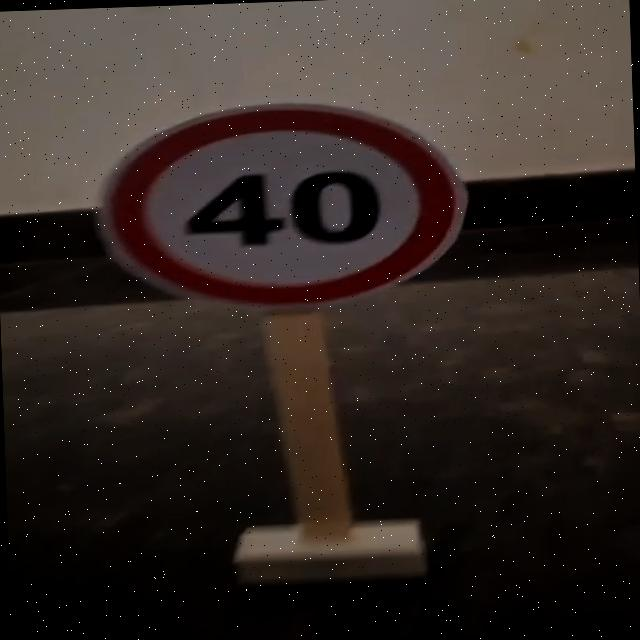Speed40: (82, 92, 476, 318)
